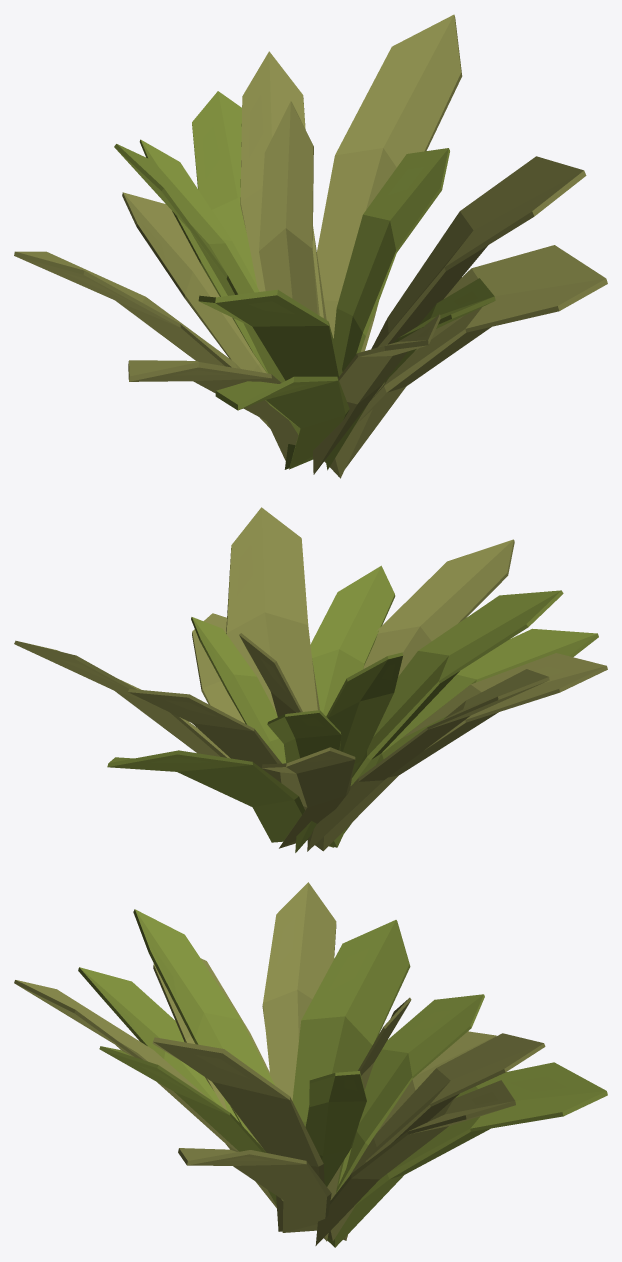
File: greek_bush_3.fbx
3 renders of one model, top to bottom at view 1: azimuth 30°, elevation 25°; view 2: azimuth 150°, elevation 25°; view 3: azimuth 270°, elevation 25°, orthographic. The views are drawn at different scales.
Visible parts, largest first — view 1: Cube.046; view 2: Cube.046; view 3: Cube.046.
Part boxes in pixels (left/top/right/bottom): Cube.046: left=14, top=14, right=607, bottom=478; Cube.046: left=14, top=507, right=607, bottom=852; Cube.046: left=14, top=882, right=607, bottom=1247.
Bounding box in the file's own units: 122 × 66.24 × 137.
